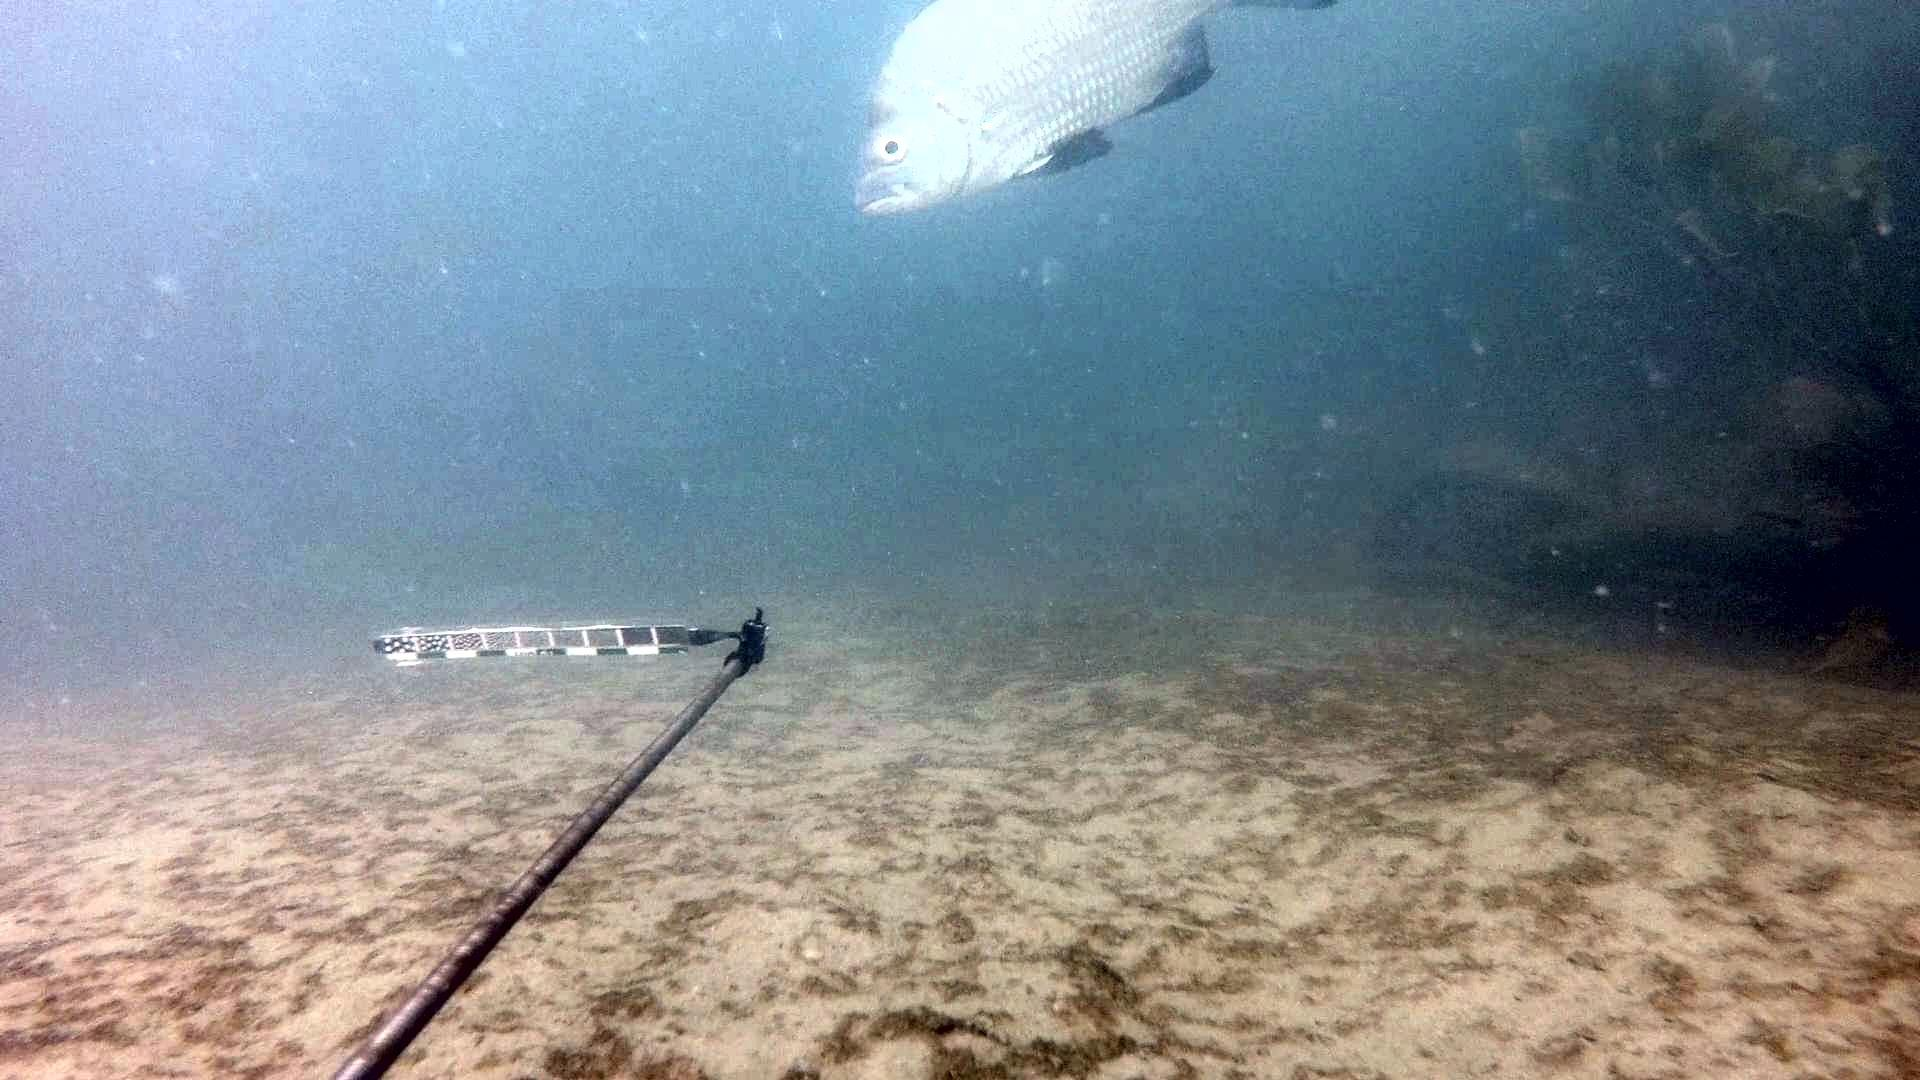acanthopagrus palmaris: (835, 0, 1274, 225)
